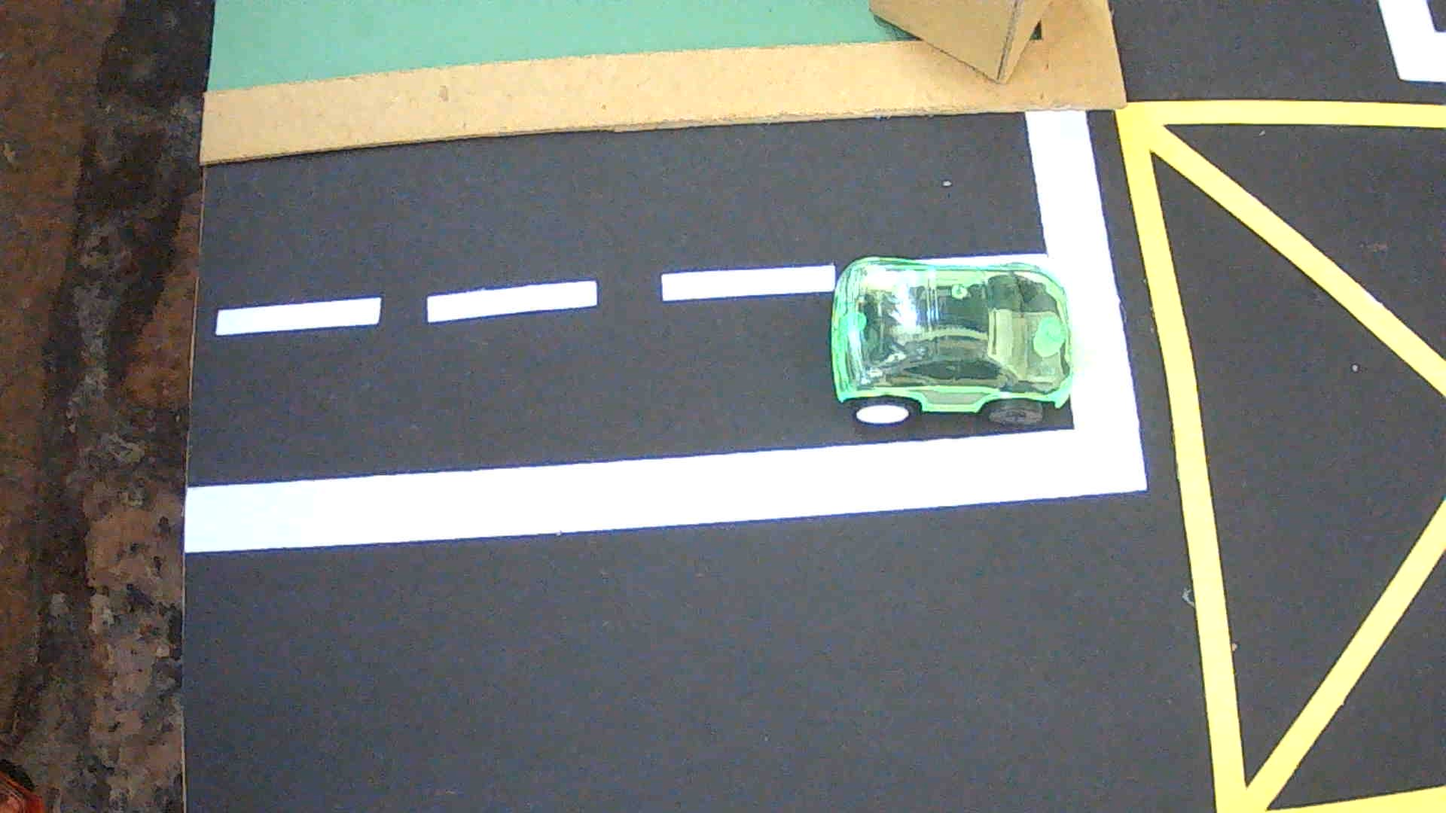Mobil hijau: (830, 257, 1074, 425)
